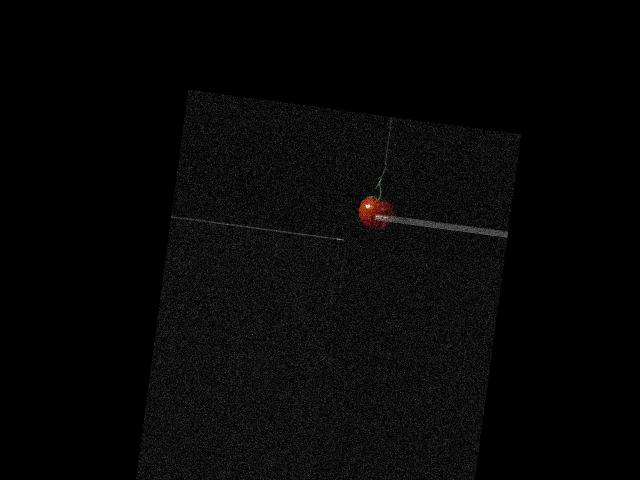tomato: (357, 195, 395, 229)
